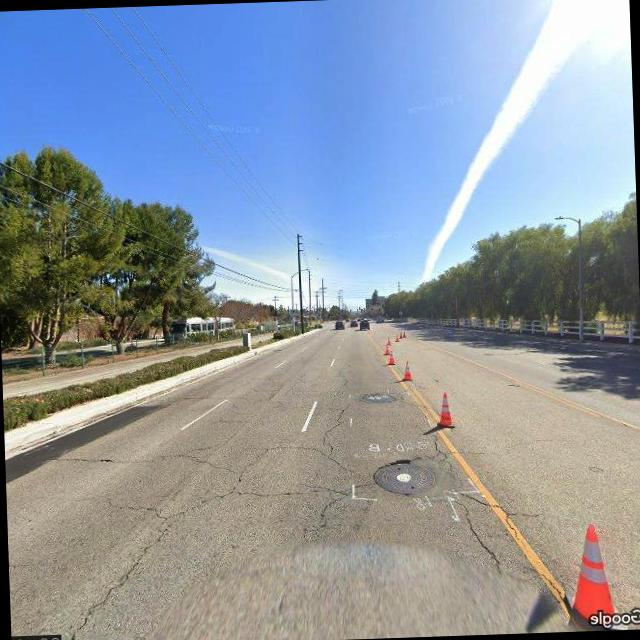crack: (47, 394, 375, 638), (60, 511, 180, 640), (8, 438, 205, 472), (458, 495, 502, 578), (526, 558, 578, 610), (460, 432, 563, 458), (426, 418, 454, 470), (507, 505, 553, 519)
pothole: (372, 450, 424, 478)
